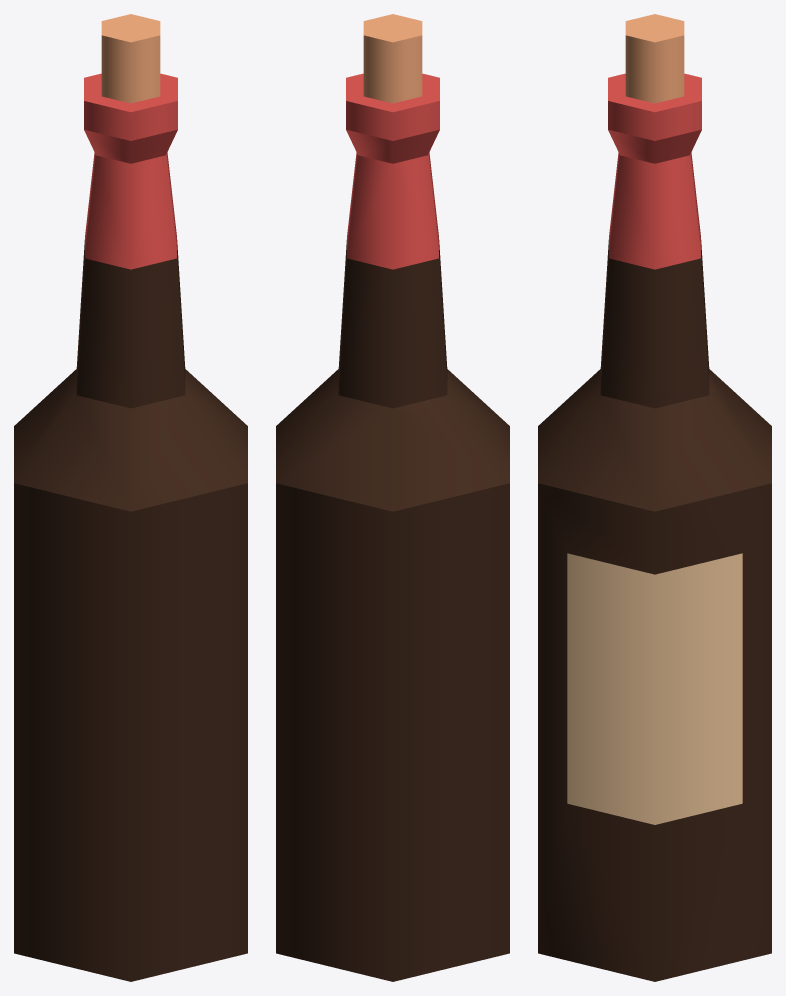
File: wineBottle.glb
3 renders of one model, left to right at view 1: azimuth 30°, elevation 25°; view 2: azimuth 150°, elevation 25°; view 3: azimuth 270°, elevation 25°, orthographic.
Parts seen in each view (by area): view 1: wineRed; view 2: wineRed; view 3: wineRed.
Boxes of the visible parts, x1,y1,x2,y2 form: wineRed: [14, 14, 247, 981]; wineRed: [276, 14, 509, 981]; wineRed: [538, 14, 771, 981].
Bounding box in the file's own units: 0.1908 × 0.6989 × 0.1652.
